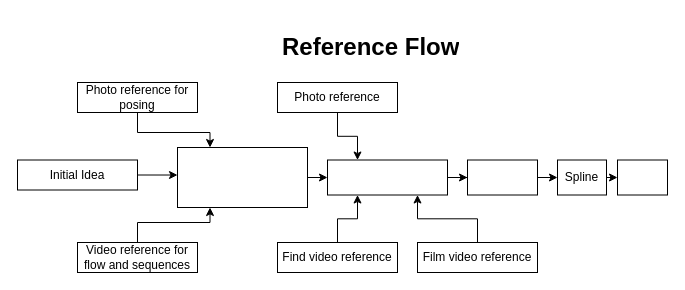
The diagram is 685 pixels wide and 290 high, and some of its shapes have lost their labels. Here are the shapes that lost their labels. From the top down, the centre of each, then its label:
the point at 242,177: Storyboard/Sequential sketches
the point at 387,177: Compile Reference
the point at 502,177: Blocking
the point at 642,177: Polish
